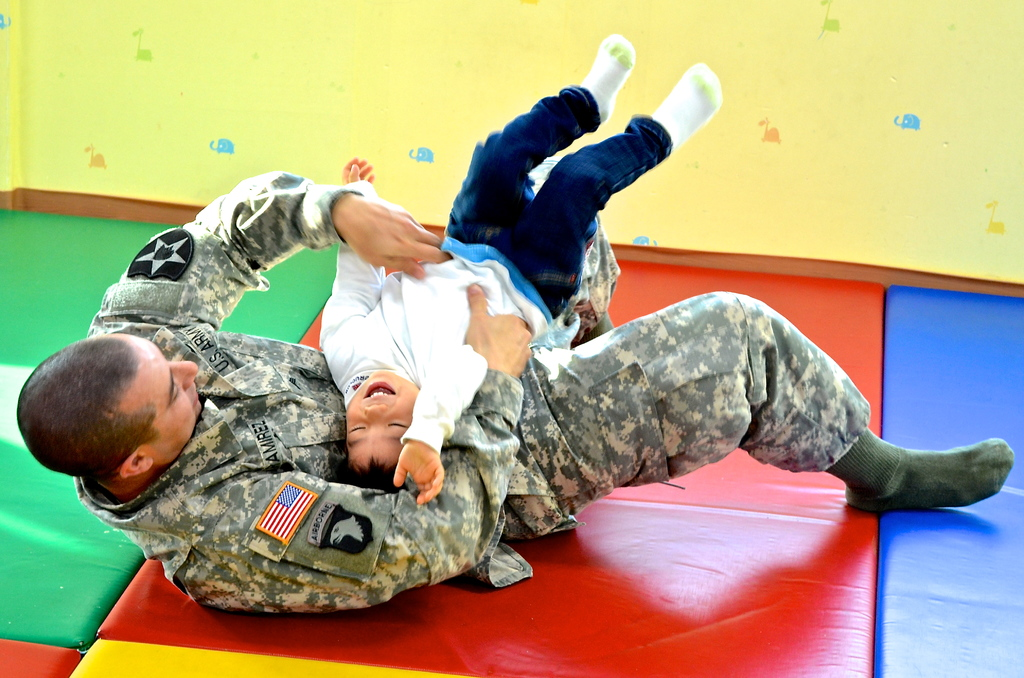Human_hand: (333, 198, 448, 280), (464, 282, 531, 376), (393, 442, 443, 503)
